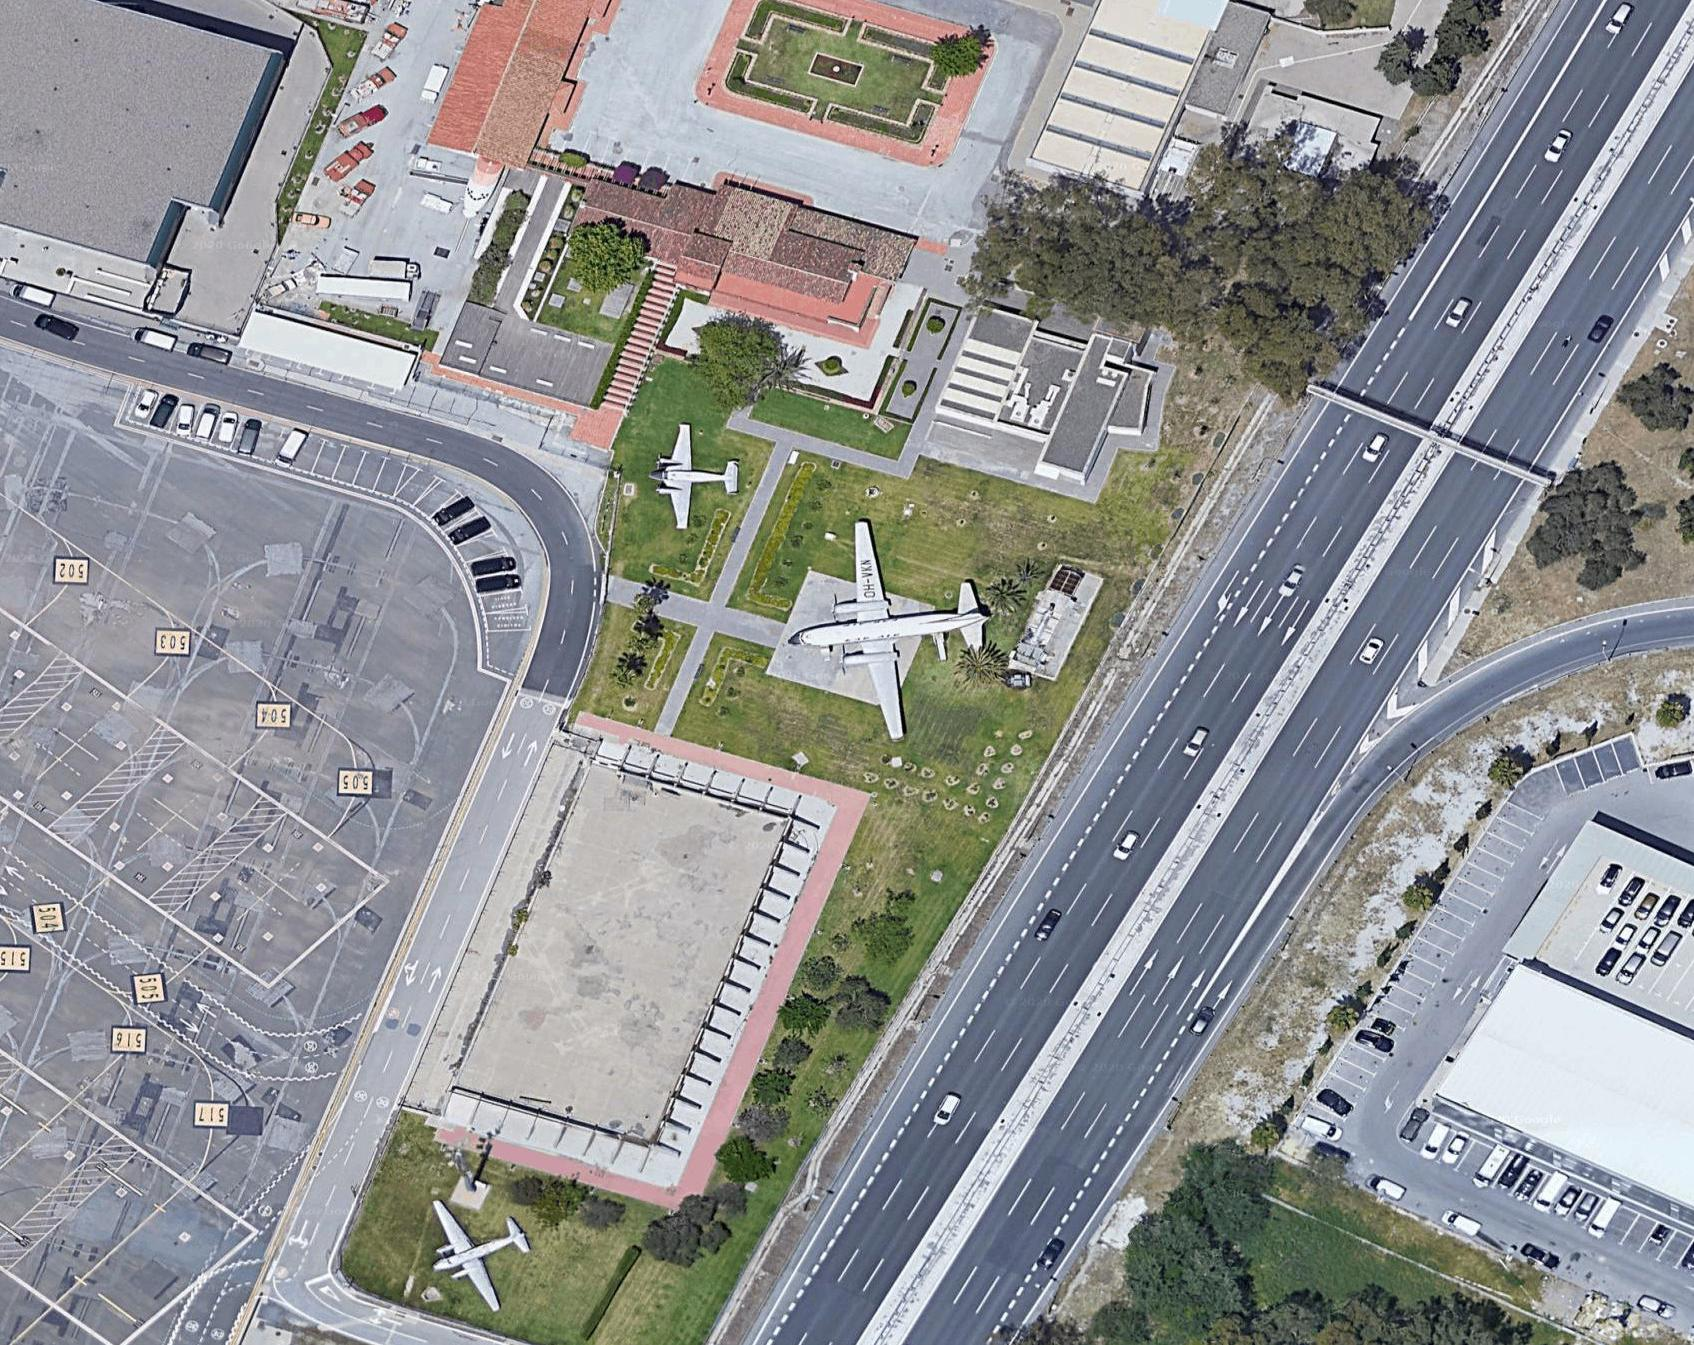plane: (771, 509, 1000, 759), (397, 1168, 551, 1330), (639, 415, 744, 540)
small-vehicle: (1369, 1173, 1408, 1205), (1651, 756, 1693, 780), (1360, 633, 1386, 667), (279, 426, 302, 462), (238, 421, 261, 457), (177, 400, 199, 435)
